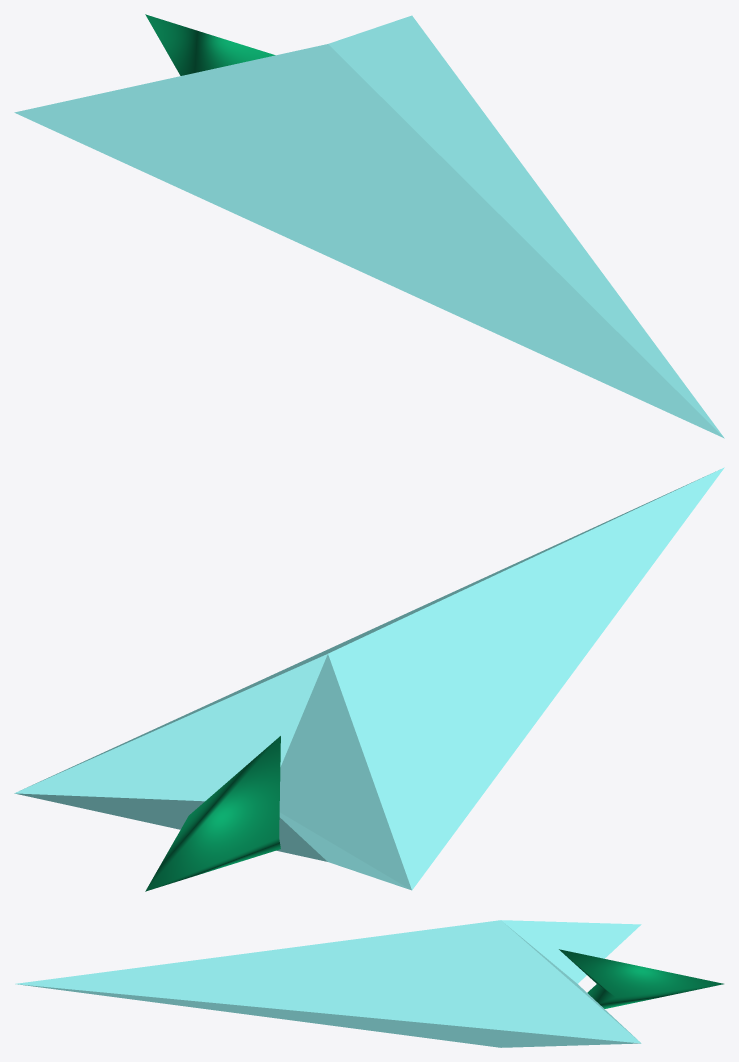
The model's file is Cursor.FBX.
3 renders of one model, top to bottom at view 1: azimuth 30°, elevation 25°; view 2: azimuth 150°, elevation 25°; view 3: azimuth 270°, elevation 25°, orthographic. The views are drawn at different scales.
Parts seen in each view (by area): view 1: C1out, C2; view 2: C1out, C2; view 3: C1out, C2.
Part boxes in pixels (x1,y1,x2,y2): C1out: [14, 15, 724, 438]; C2: [145, 14, 275, 75]; C1out: [14, 467, 724, 890]; C2: [145, 736, 280, 891]; C1out: [15, 920, 641, 1047]; C2: [559, 949, 723, 1008].
Size of the model in its own units: 22 by 11 by 55.5.
